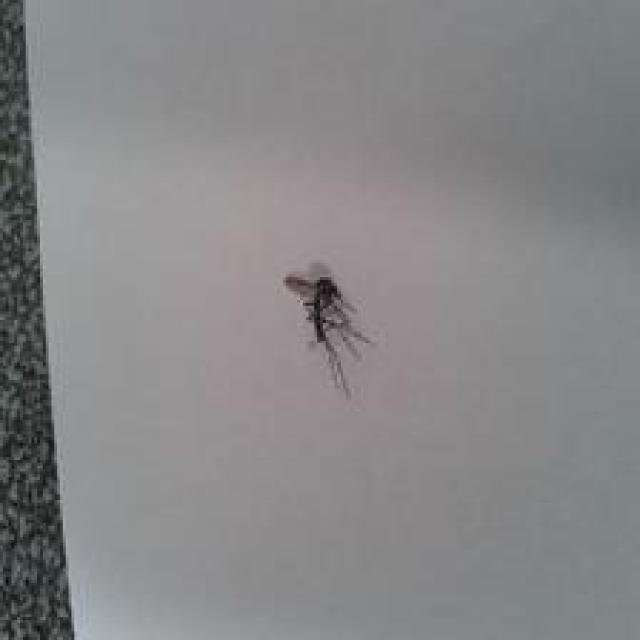Aedes albopictus: (281, 262, 373, 398)
